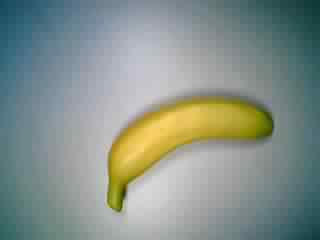banana: (104, 92, 278, 212)
